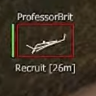hacks_3: (11, 11, 76, 74)
